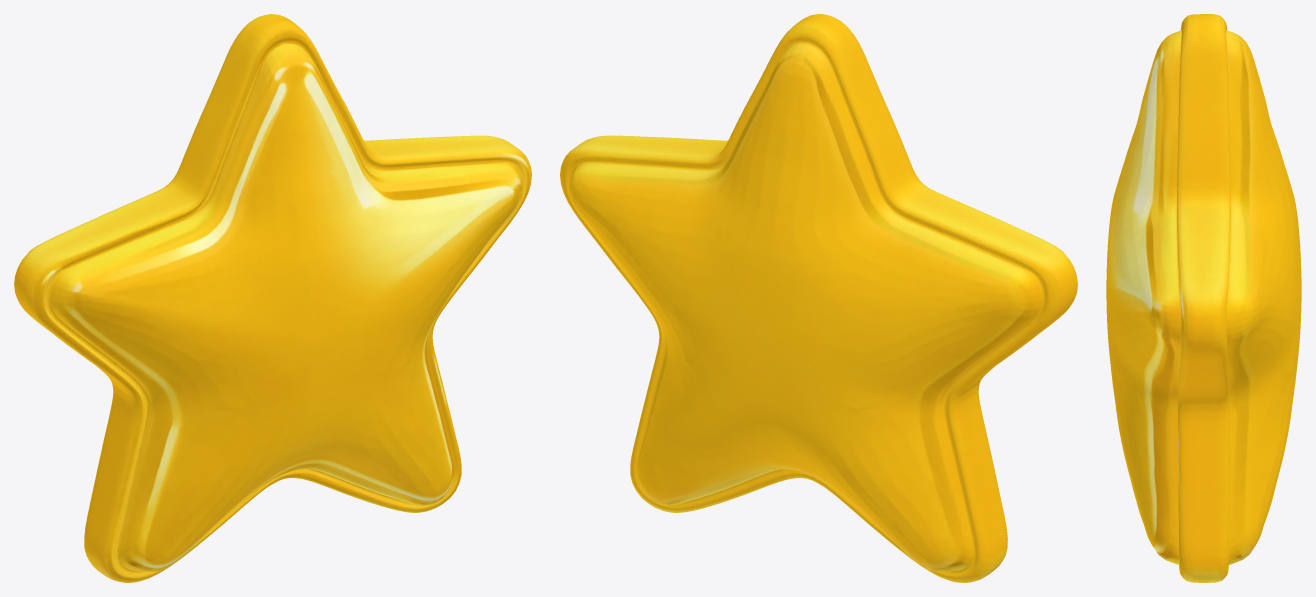
File: golden_star.glb
3 renders of one model, left to right at view 1: azimuth 30°, elevation 25°; view 2: azimuth 150°, elevation 25°; view 3: azimuth 270°, elevation 25°, orthographic. The views are drawn at different scales.
Size of the model in its own units: 1.9 by 1.88 by 0.6728.
1 material, 1 textured.
